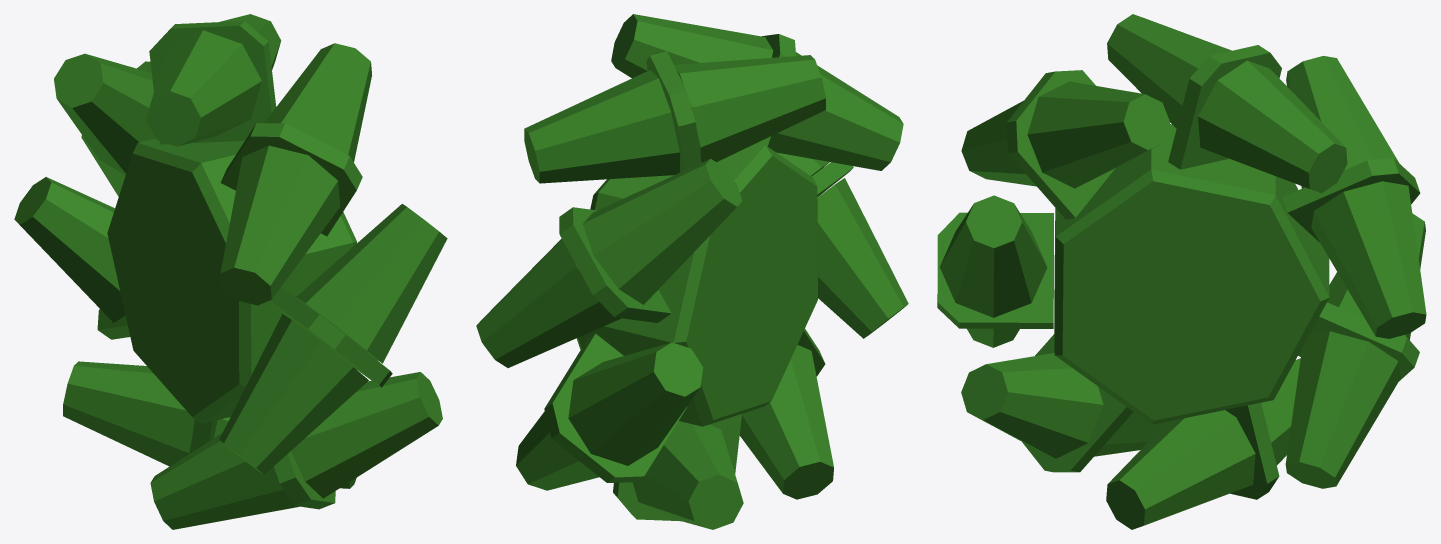
The model's file is MecanumWheel.fbx.
3 views of the same model, side by side, from view 1: azimuth 30°, elevation 25°; view 2: azimuth 150°, elevation 25°; view 3: azimuth 270°, elevation 25° (orthographic). The views are drawn at different scales.
Parts seen in each view (by area): view 1: Wheel_R_F; view 2: Wheel_R_F; view 3: Wheel_R_F.
Part boxes in pixels (<box>): Wheel_R_F: <box>14,14,447,529</box>; Wheel_R_F: <box>476,14,908,529</box>; Wheel_R_F: <box>937,14,1426,529</box>.
Size of the model in its own units: 5.23 by 10.44 by 10.31.
